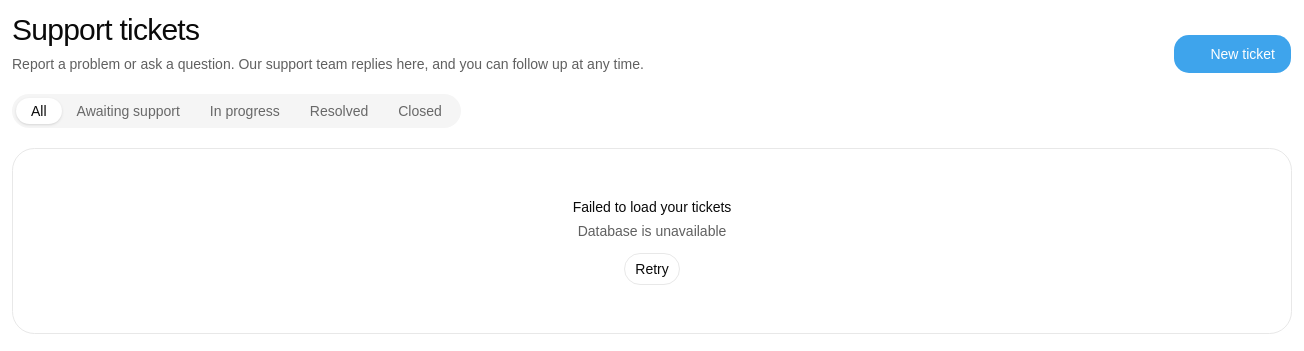
Test: next support ticket list › shows the load error inline and retries on request
Expected: the text "Database is unavailable" is shown, [573,221,731,241]
Click the button "Retry". click: coordinates (652, 269)
box: [624,253,680,285]
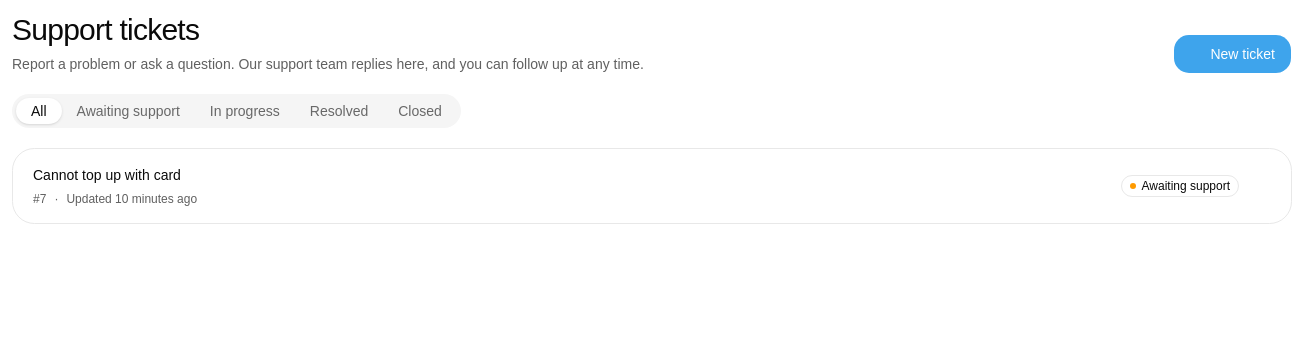
Result: the link "Cannot top up with card" is shown at [33,167,1239,206]
